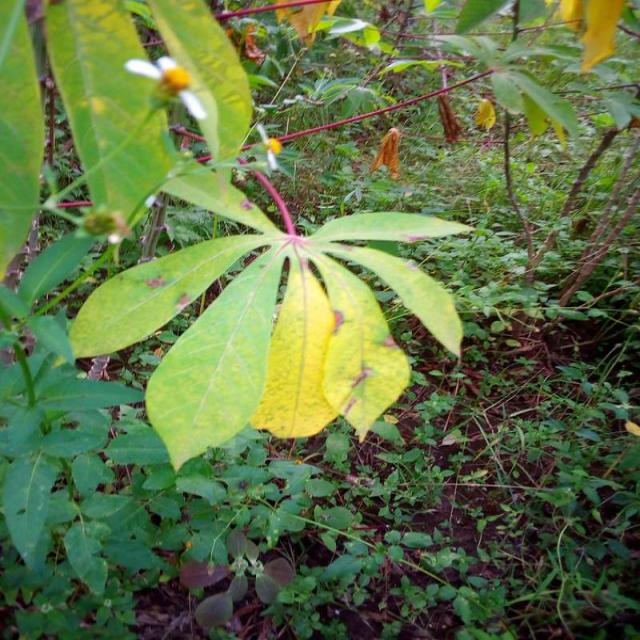cassava leaf: (68, 154, 474, 472), (144, 241, 286, 473), (43, 0, 178, 236), (146, 0, 254, 187), (0, 0, 45, 282)
